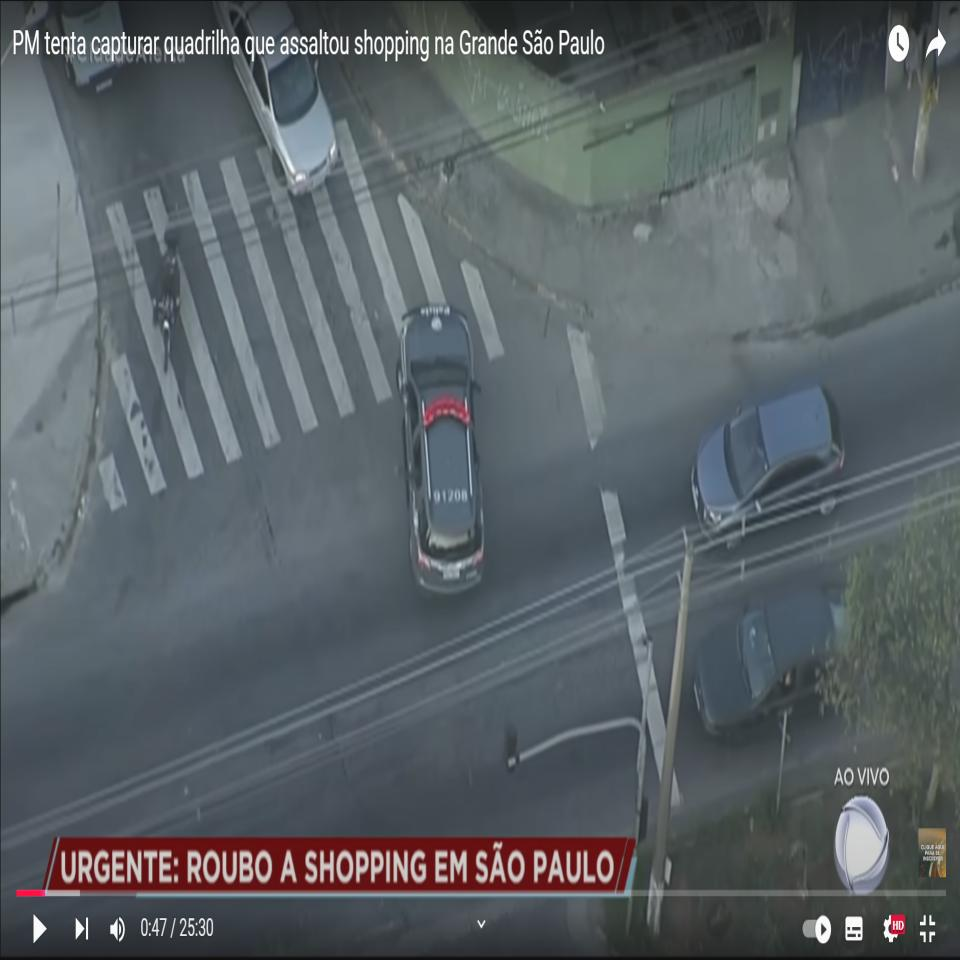viatura: (393, 306, 489, 604)
